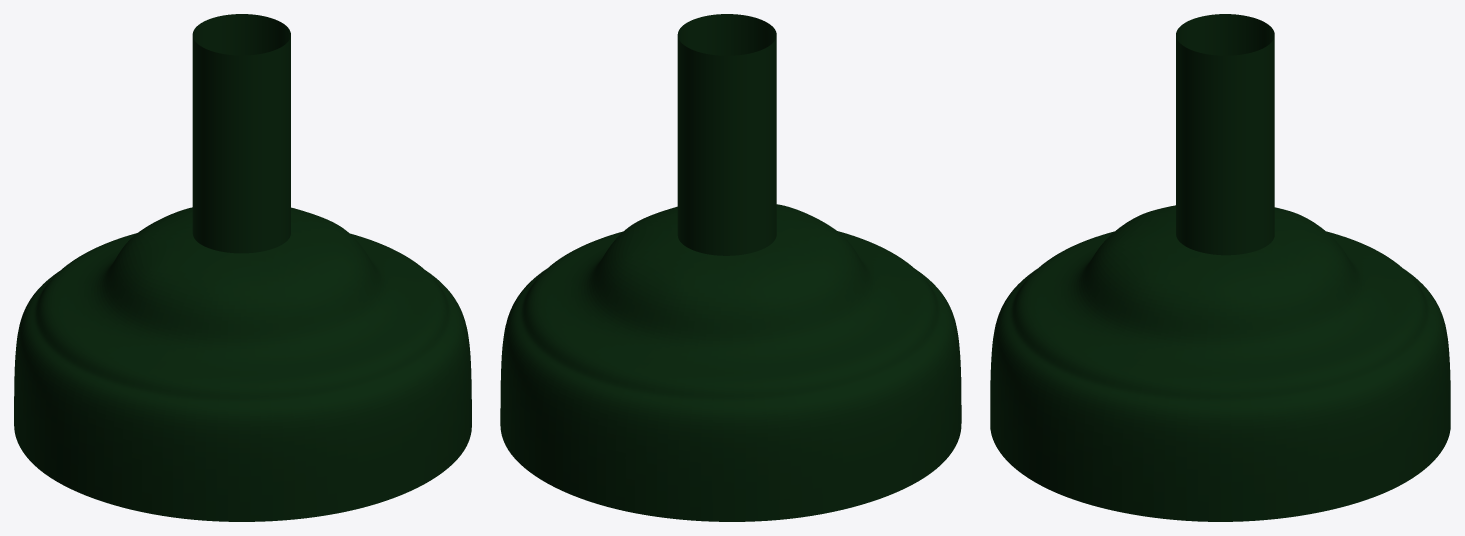
The model's file is missile_holder.fbx.
3 renders of one model, left to right at view 1: azimuth 30°, elevation 25°; view 2: azimuth 150°, elevation 25°; view 3: azimuth 270°, elevation 25°, orthographic.
Visible parts, largest first — view 1: Missile Holder; view 2: Missile Holder; view 3: Missile Holder.
Boxes of the visible parts, x1,y1,x2,y2 form: Missile Holder: (14,14,471,521); Missile Holder: (500,14,961,521); Missile Holder: (990,14,1450,521).
Size of the model in its own units: 180 by 169 by 180.
